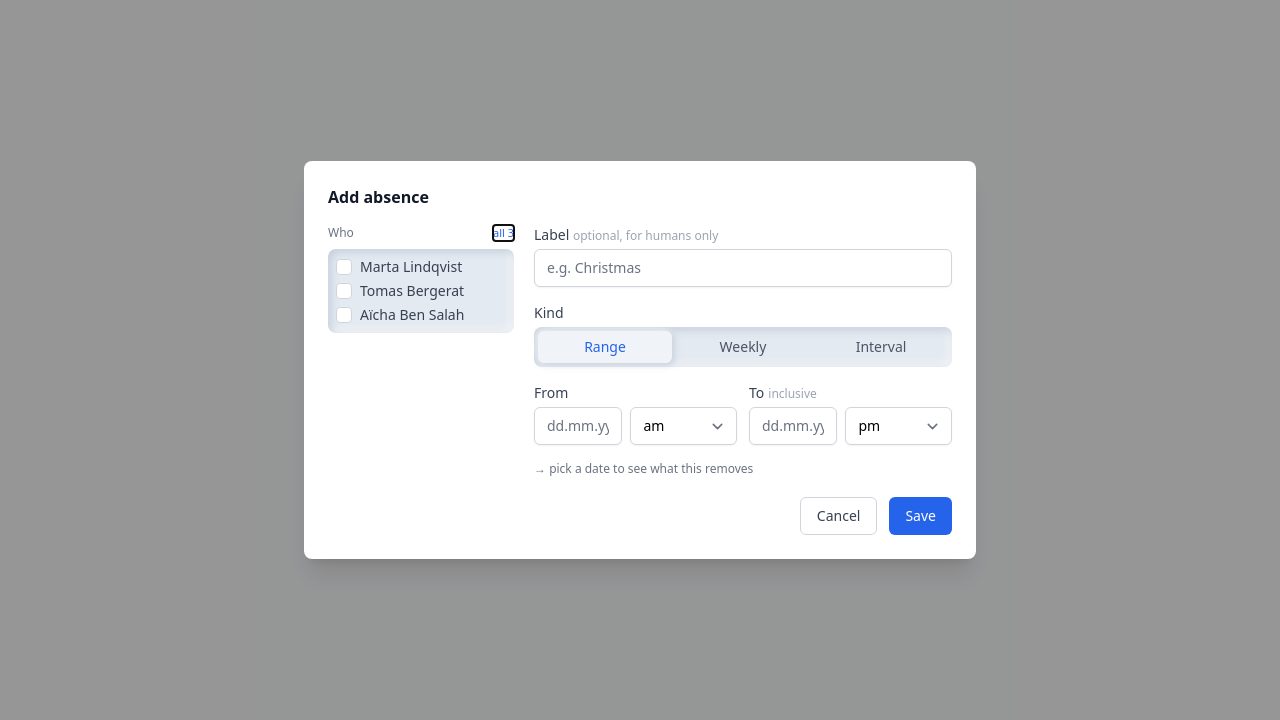
Test: AbsenceDialog › offers three kinds, so the weekly case has nothing extra to fill in
Click the tab "Weekly": (743, 347) [676, 331, 810, 363]
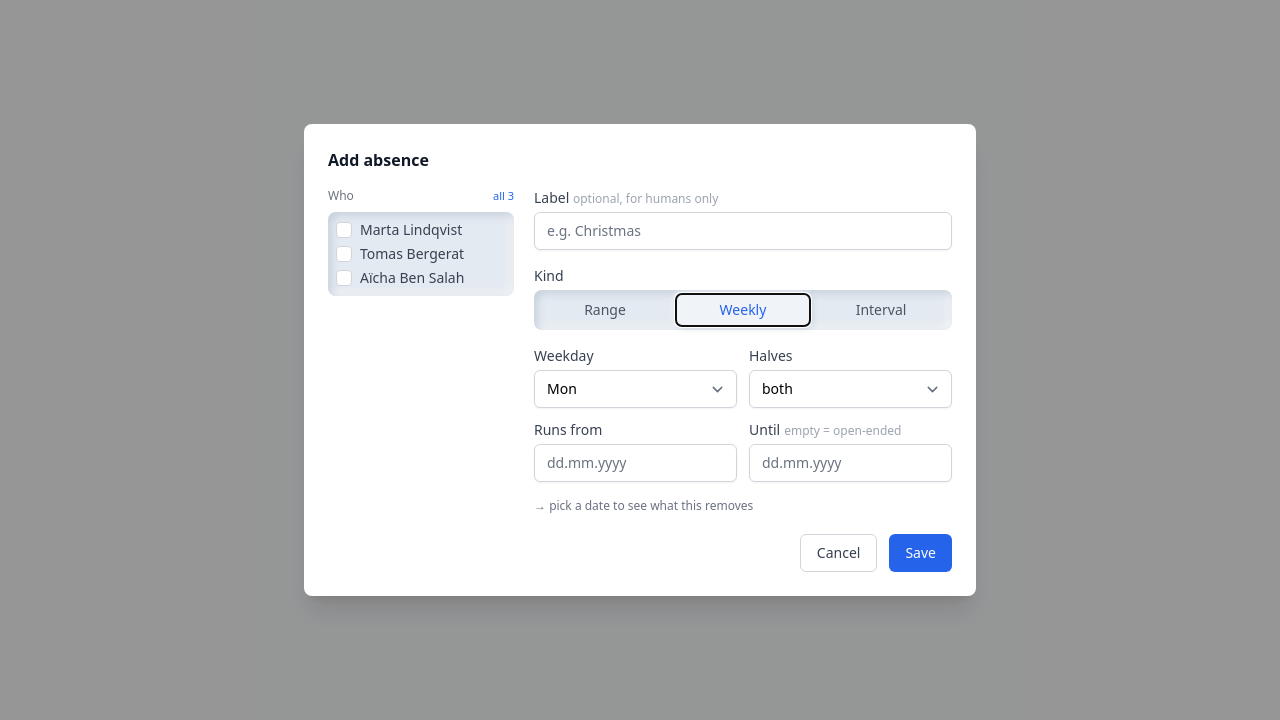
Expected: the dropdown labelled "Weekday" is shown, [534, 370, 737, 408]
